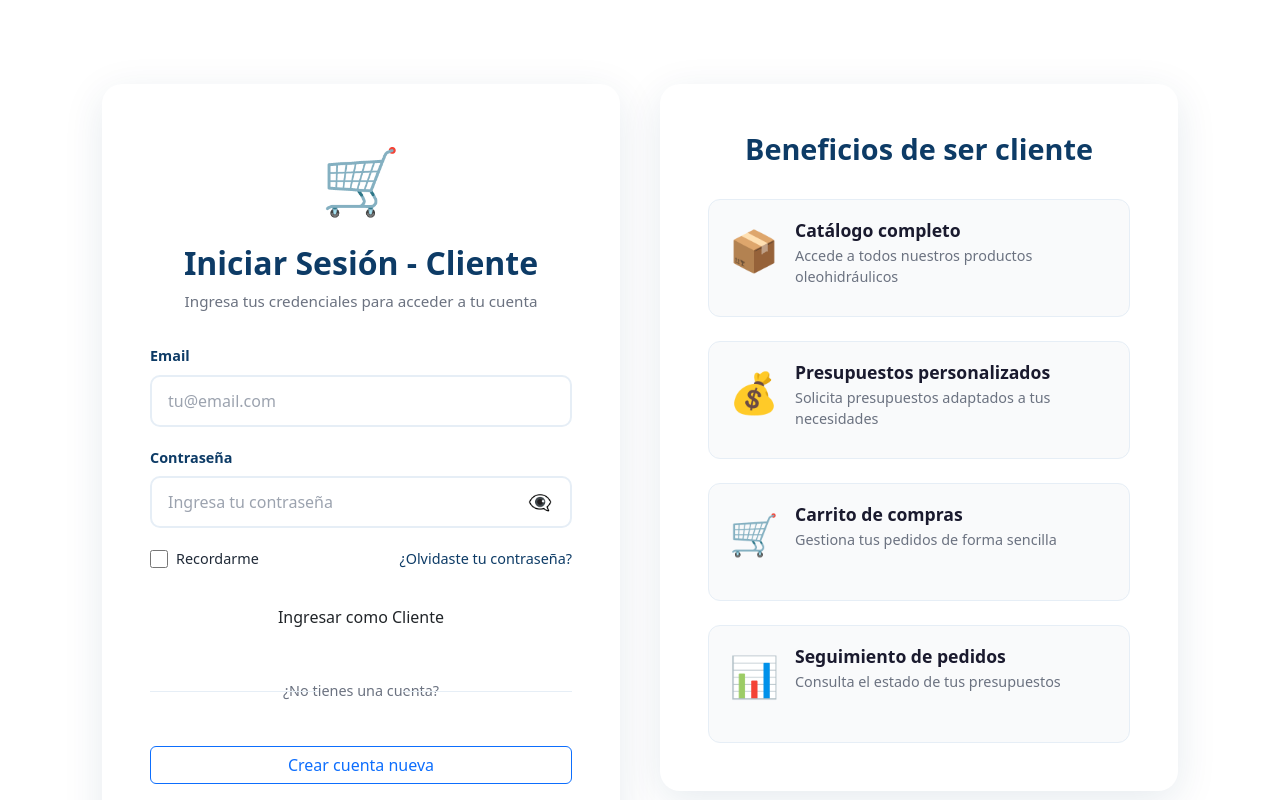
LoginCliente - credenciales inválidas › muestra un mensaje de error cuando el login falla
(page scrolled)
Step 1. Type "wrong@example.com" into the field labelled "Email" → (361, 401), box top-left (150, 375), bottom-right (572, 427)
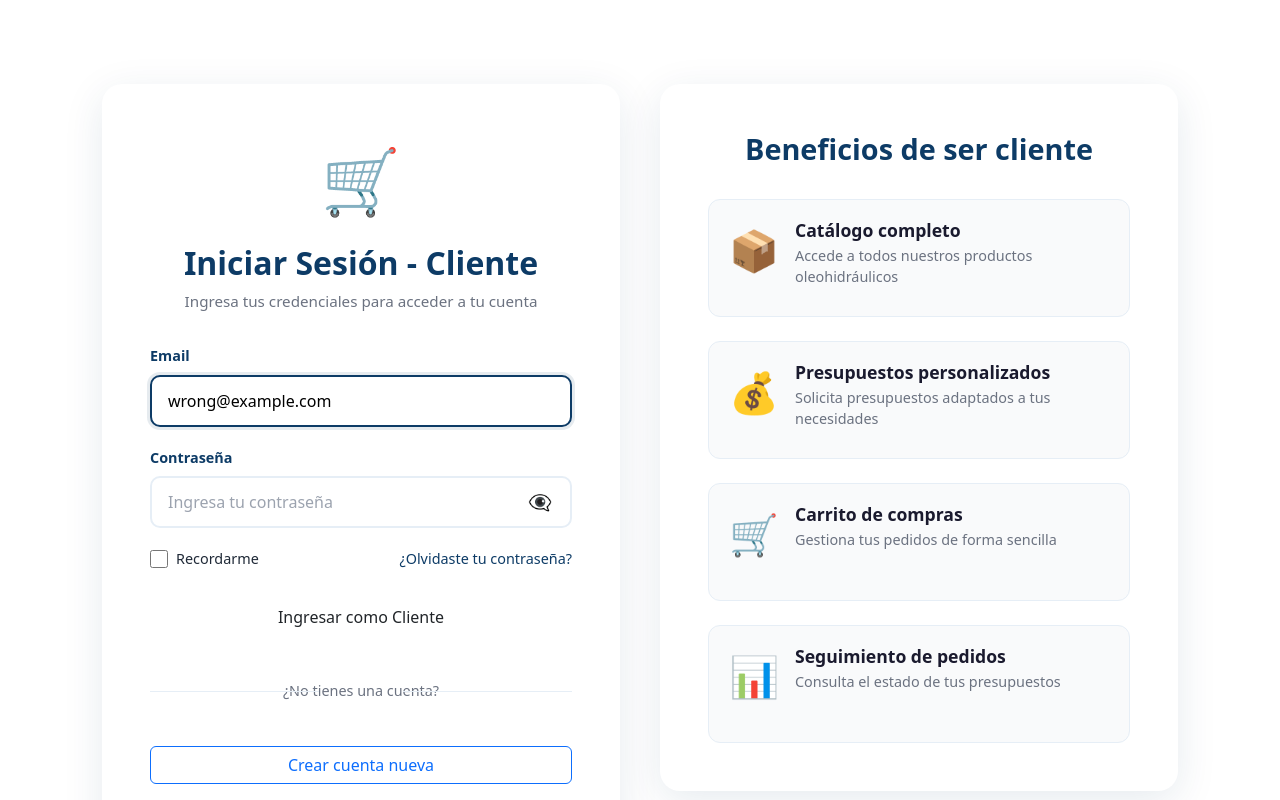
Step 2. Type "wrongpass" into the password field labelled "Contraseña" → (361, 502), box top-left (150, 476), bottom-right (572, 528)
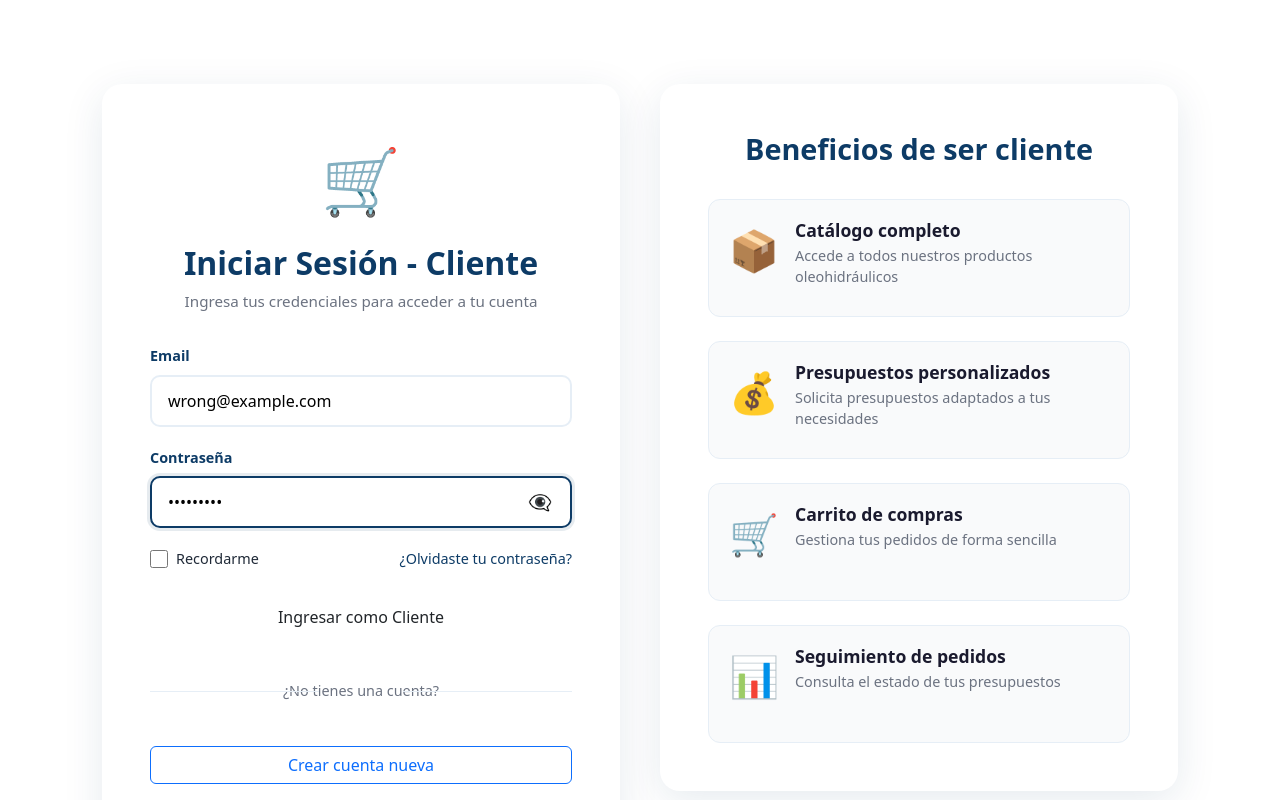
Step 3. Click the button "Ingresar como Cliente" → (361, 617), box top-left (150, 598), bottom-right (572, 636)
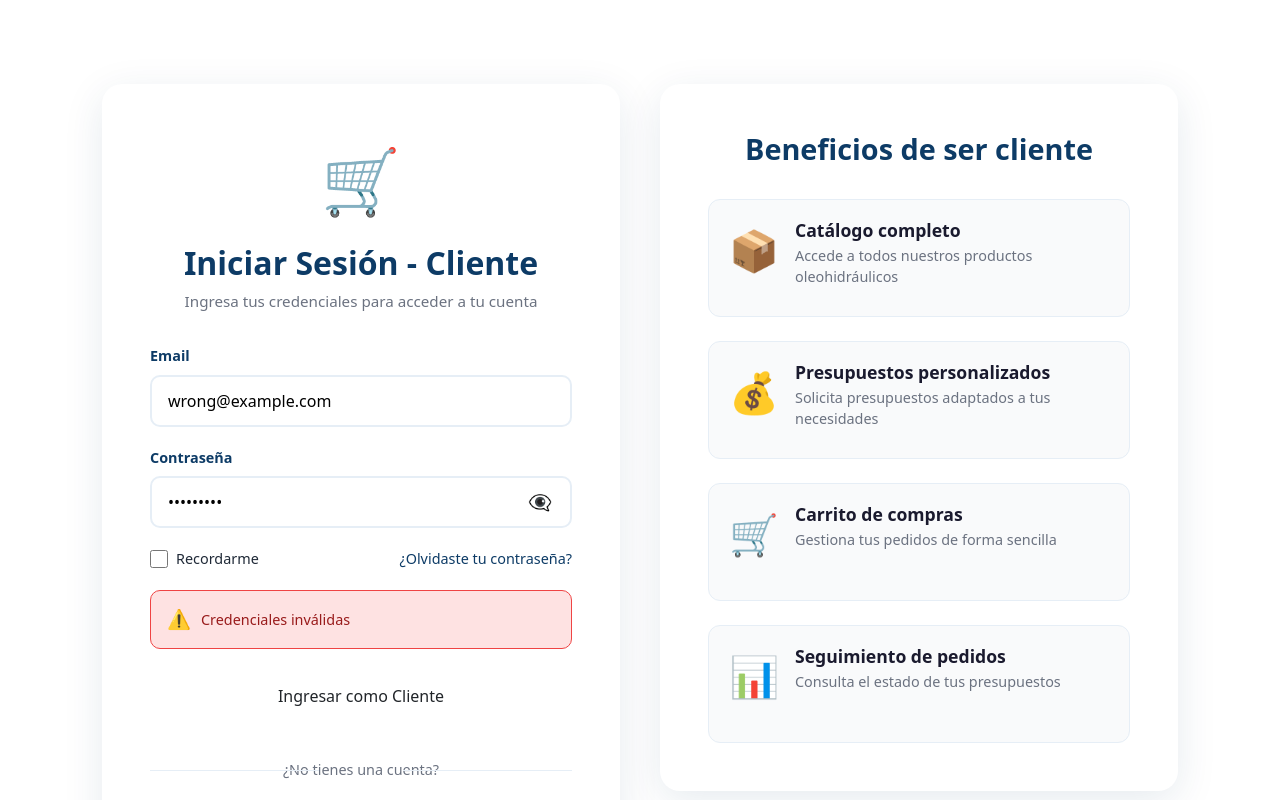
Expected: the text "Credenciales inválidas" is shown, top-left (201, 610), bottom-right (350, 629)
